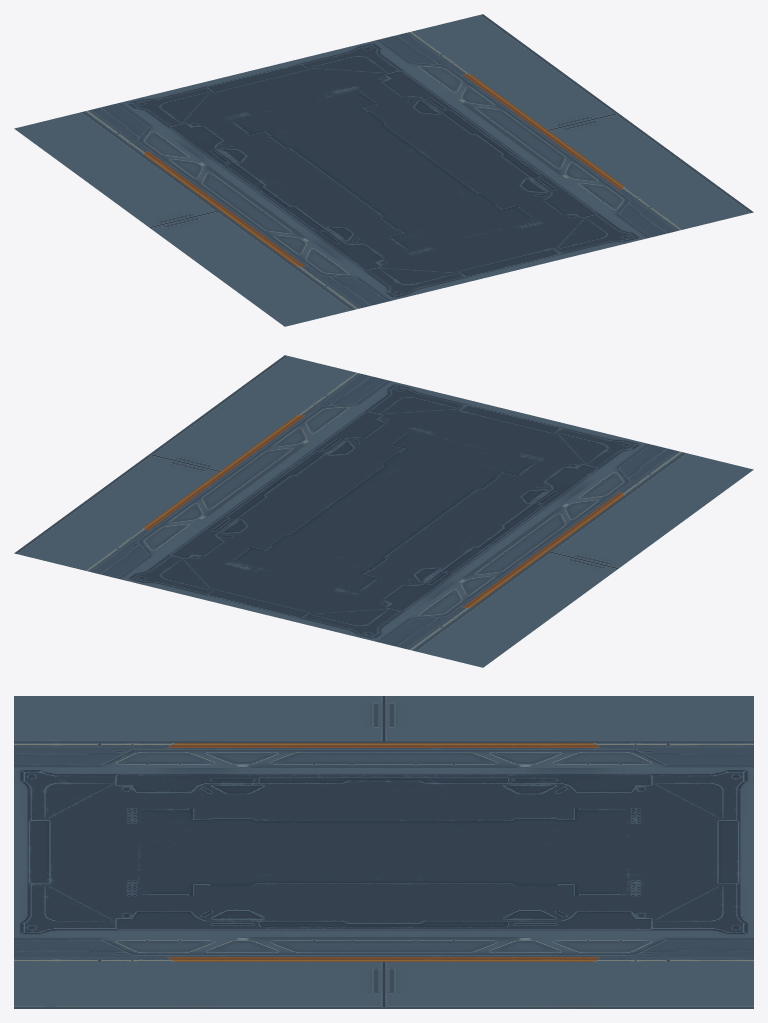
Rendered from DeckInset.gltf.
3 views of the same model, one above another, from view 1: azimuth 30°, elevation 25°; view 2: azimuth 150°, elevation 25°; view 3: azimuth 270°, elevation 25° (orthographic). The views are drawn at different scales.
Visible parts, largest first — view 1: Platform_CenterPlate; view 2: Platform_CenterPlate; view 3: Platform_CenterPlate.
Part boxes in pixels (<box>): Platform_CenterPlate: <box>14,14,753,326</box>; Platform_CenterPlate: <box>14,355,753,667</box>; Platform_CenterPlate: <box>14,696,753,1008</box>.
Bounding box in the file's own units: 4 × 2.84e-14 × 4.
Materials: 2 (2 with a texture image).
